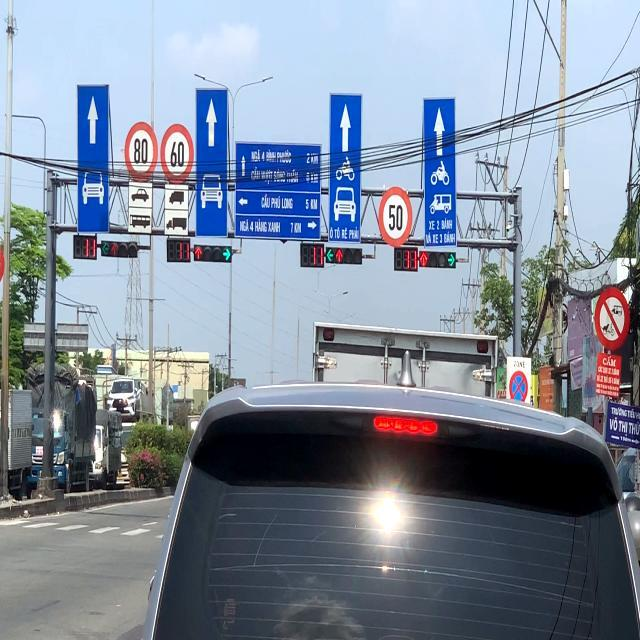Cam dung xe va do xe: (509, 370, 528, 406)
Toc do toi da cho phep: (378, 186, 412, 248), (124, 121, 158, 182), (160, 124, 194, 184)
